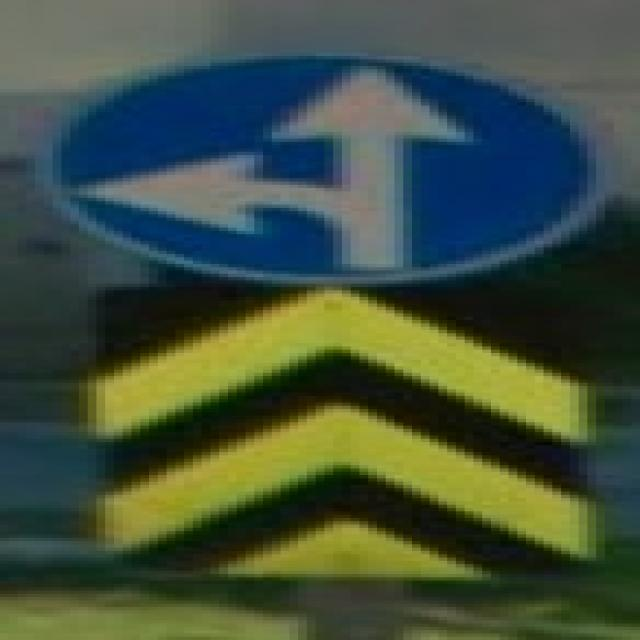Straight or Right: (54, 59, 597, 280)
